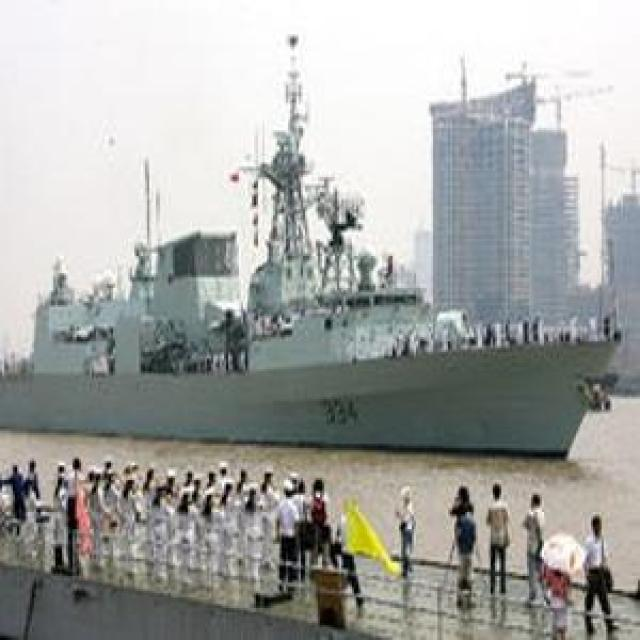navalvessels: (5, 127, 600, 460)
